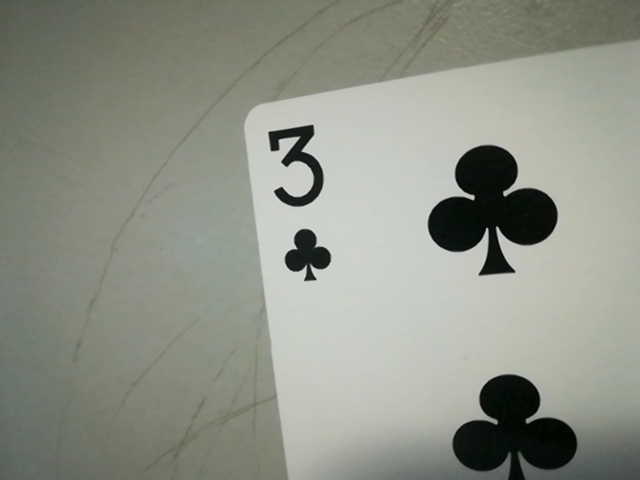mh 3: (253, 112, 345, 291)
